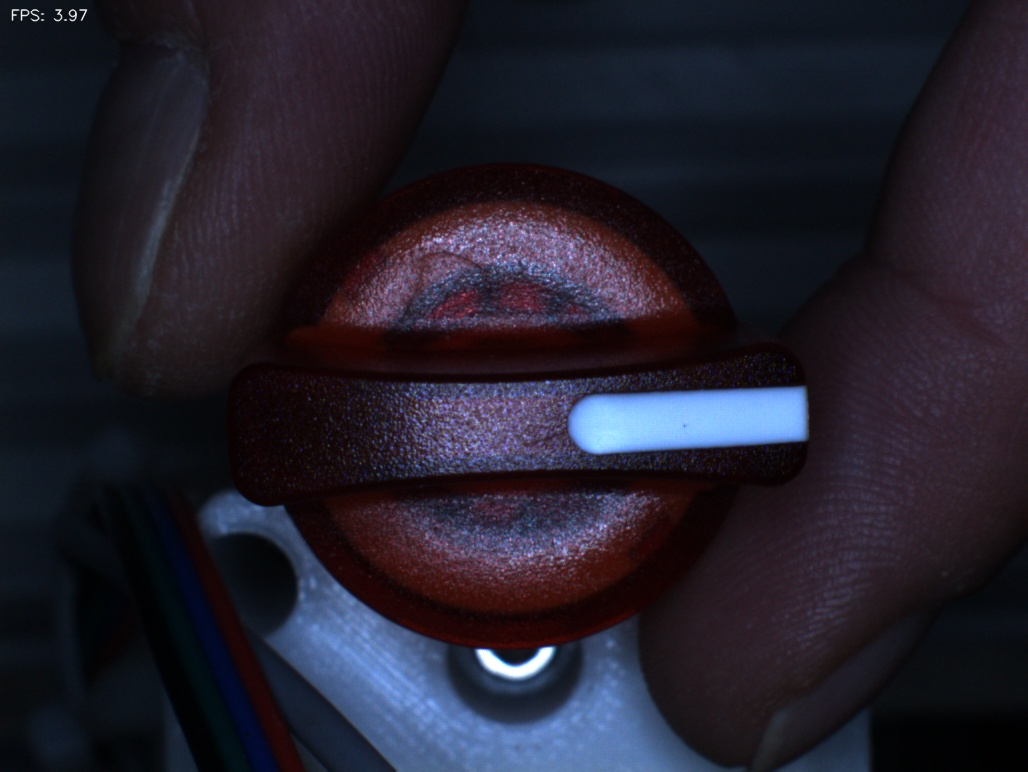PointNoir: (647, 393, 719, 452)
